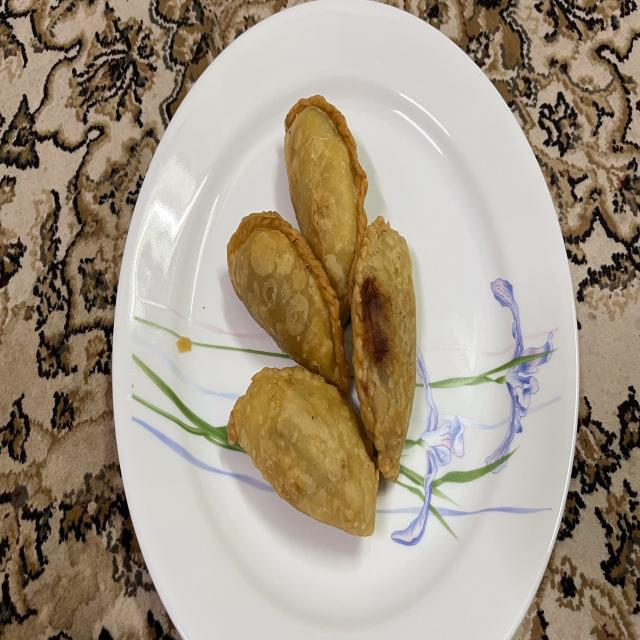karipap: (228, 367, 379, 536), (228, 211, 350, 393), (284, 96, 368, 322), (351, 216, 416, 482)
